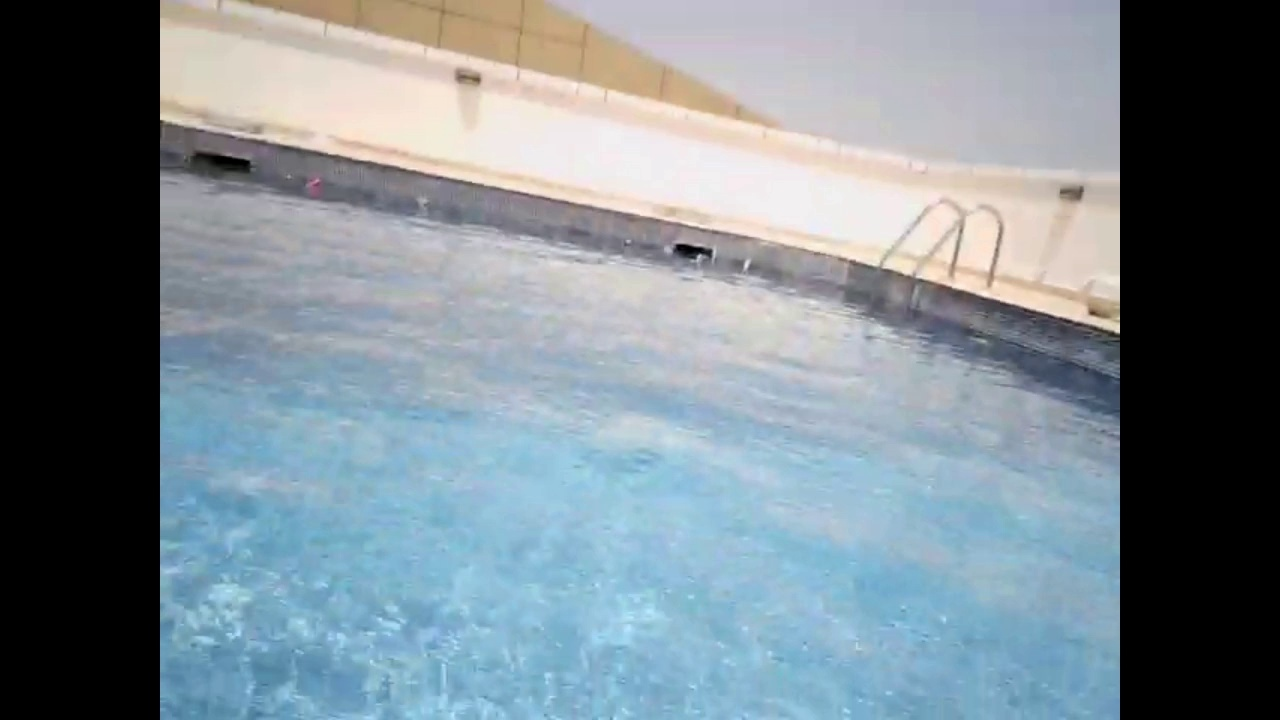debris: (300, 171, 326, 195), (734, 257, 758, 278), (694, 250, 716, 269), (619, 235, 638, 255)
